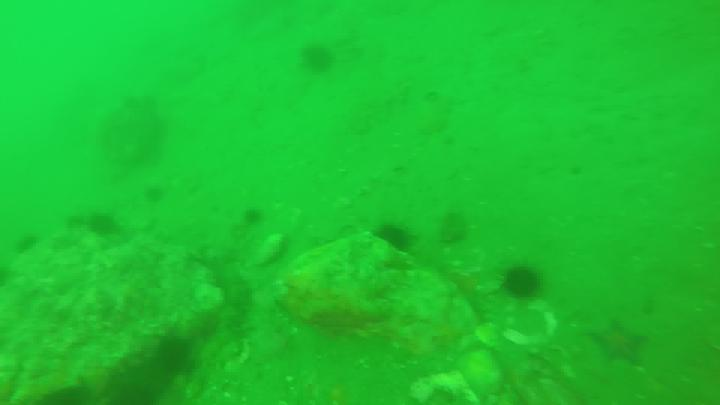echinus: (298, 44, 340, 76), (499, 263, 537, 295), (375, 223, 420, 248), (83, 213, 120, 239), (241, 211, 267, 224)
scallop: (455, 354, 505, 397), (477, 324, 505, 349)
starfish: (590, 320, 649, 365)
